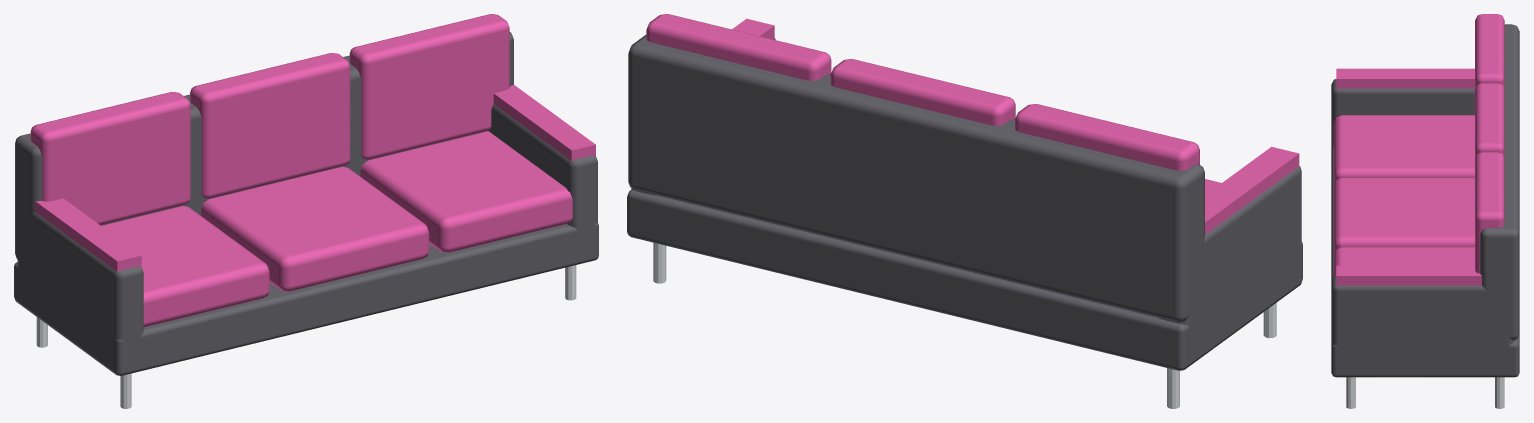
Rendered from tattoo-and-piercing-studio-waiting-sofa-run-db17f744__34548.glb.
3 views of the same model, side by side, from view 1: azimuth 30°, elevation 25°; view 2: azimuth 150°, elevation 25°; view 3: azimuth 270°, elevation 25° (orthographic). The views are drawn at different scales.
Visible parts, largest first — view 1: waiting-sofa-run; view 2: waiting-sofa-run; view 3: waiting-sofa-run.
Boxes of the visible parts, box(x1,y1,x2,y2) form: waiting-sofa-run: box(14, 14, 598, 408); waiting-sofa-run: box(627, 14, 1302, 408); waiting-sofa-run: box(1331, 14, 1519, 408).
Bounding box in the file's own units: 2 × 0.88 × 0.7601.
